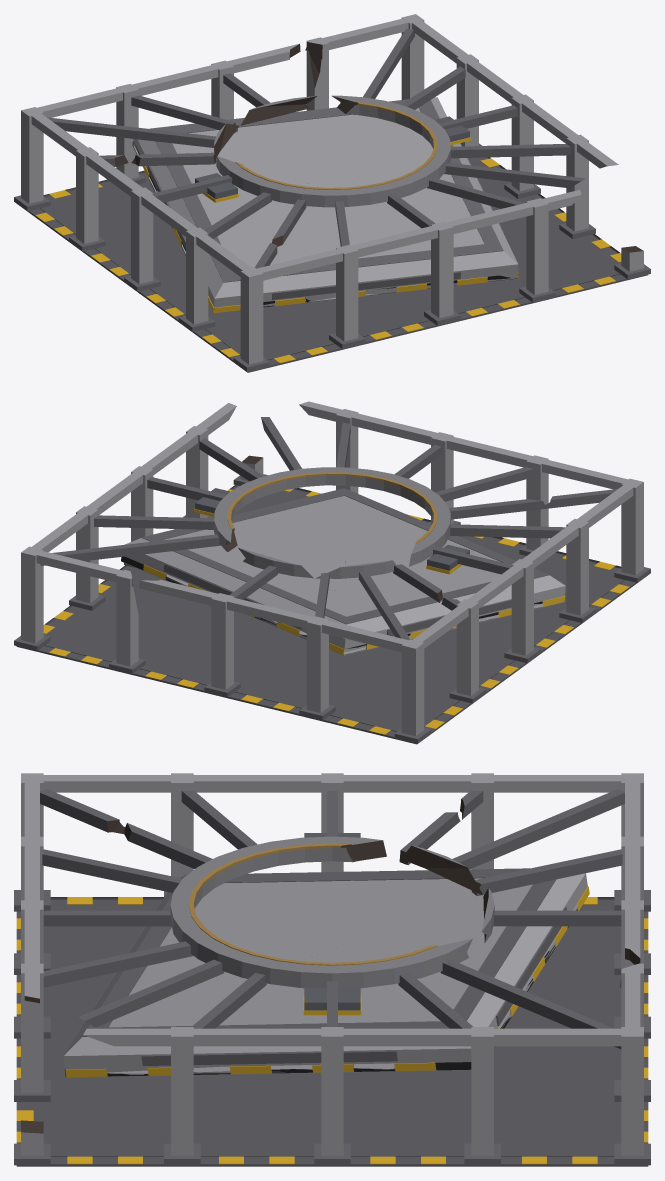
Rendered from vge_d_largeweaponplatform.obj.
The picture shows the model from 3 angles, top to bottom: view 1: azimuth 30°, elevation 25°; view 2: azimuth 150°, elevation 25°; view 3: azimuth 270°, elevation 25°; orthographic projection. The views are drawn at different scales.
Parts seen in each view (by area): view 1: vge_d_largeweaponplatform; view 2: vge_d_largeweaponplatform; view 3: vge_d_largeweaponplatform.
Boxes of the visible parts, box(x1,y1,x2,y2) form: vge_d_largeweaponplatform: box(14, 14, 650, 372); vge_d_largeweaponplatform: box(14, 401, 650, 744); vge_d_largeweaponplatform: box(14, 773, 650, 1166).
Bounding box in the file's own units: 7.03 × 1.57 × 7.03.
